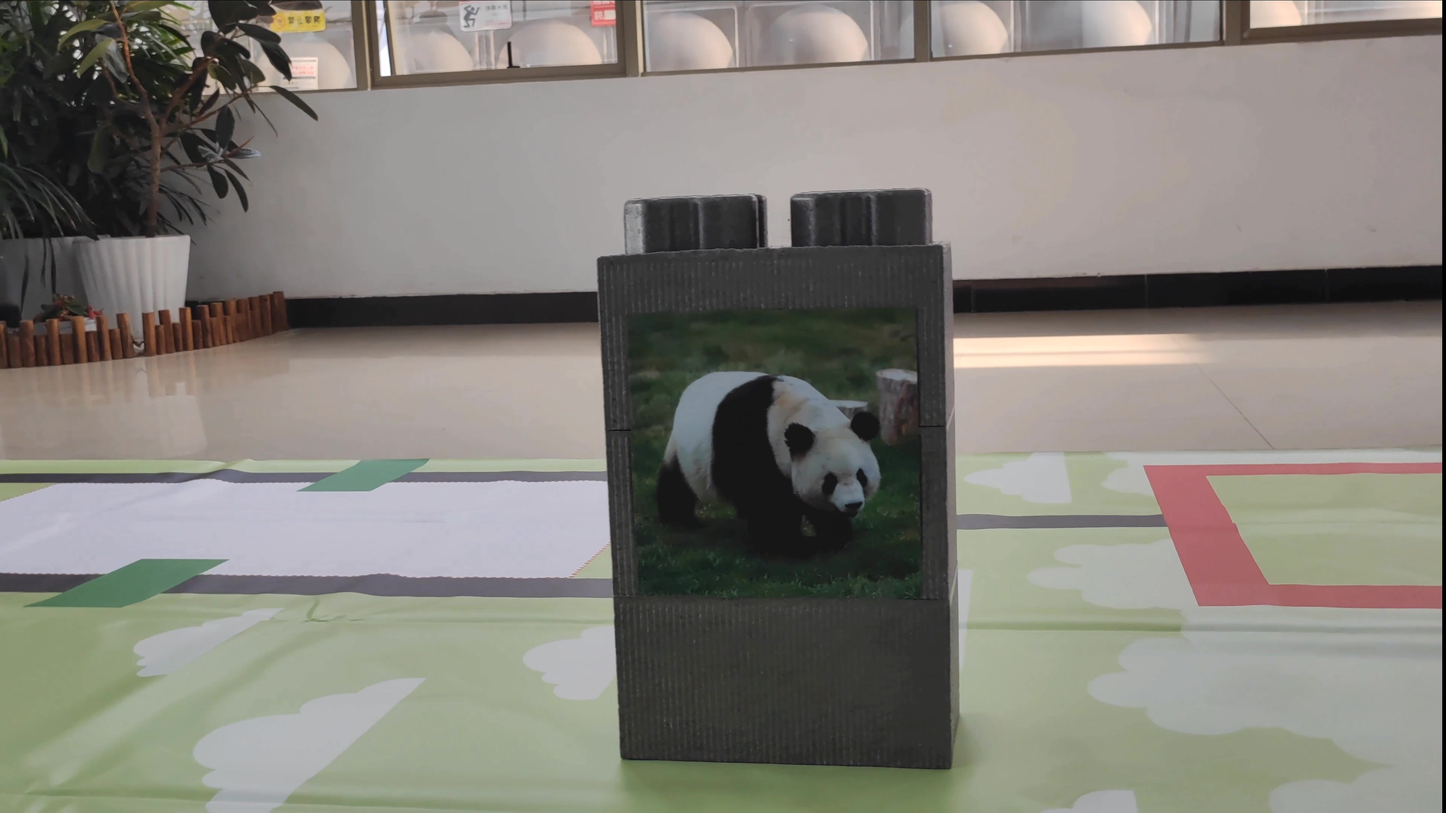panda: (628, 337, 894, 566)
